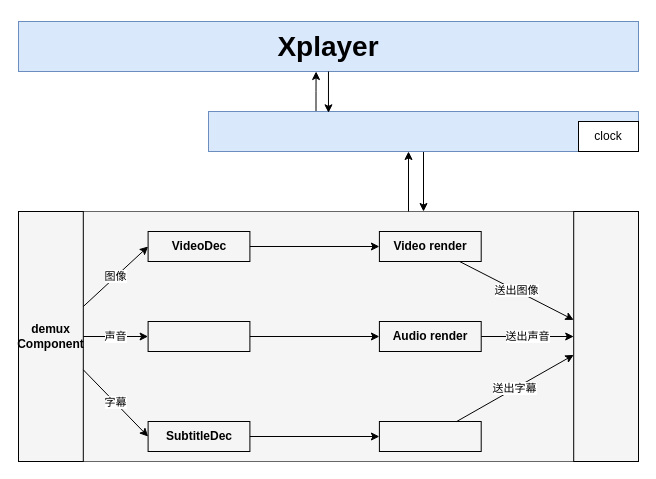
Image size: 656x479. Some labels were removed from this diagram. Here are the shapes that lost their labels. From the top down, the box of each, then its label:
(208, 110, 638, 152): player
(147, 320, 250, 352): AudioDec
(573, 210, 638, 462): 图像显示 声音播放 字幕显示
(378, 420, 481, 452): subtitle render
